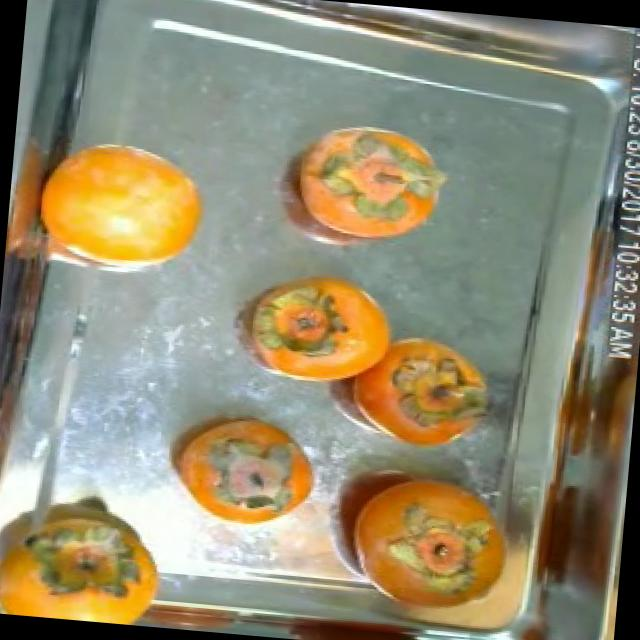Fruit: (14, 122, 221, 278), (148, 394, 335, 541), (220, 254, 412, 397), (277, 110, 459, 258), (0, 477, 178, 627), (351, 318, 514, 462)
